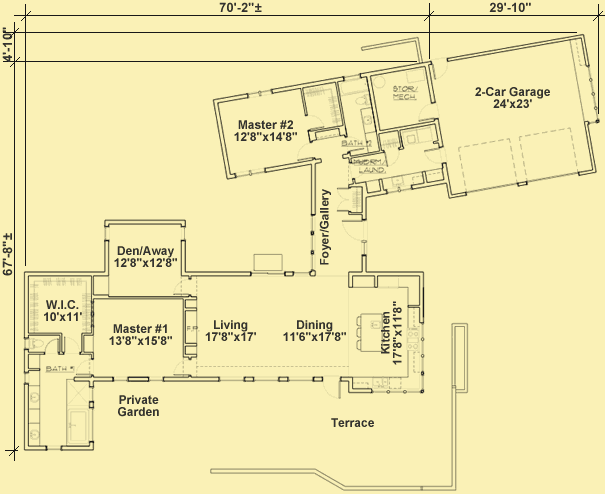door: (316, 373, 346, 401), (168, 272, 194, 299), (299, 109, 328, 133), (337, 216, 366, 240), (431, 54, 453, 83), (332, 185, 353, 214), (412, 100, 437, 124), (41, 332, 64, 357), (292, 137, 314, 163), (423, 147, 448, 167), (384, 146, 401, 167), (71, 359, 92, 375)
kitchen bar: (353, 306, 383, 354)
large sink: (353, 93, 373, 110)
small sink: (25, 385, 43, 414), (358, 107, 377, 133), (24, 420, 40, 447), (355, 92, 372, 107)
tub: (67, 407, 90, 444)
windows: (233, 167, 270, 181), (241, 90, 278, 101)
